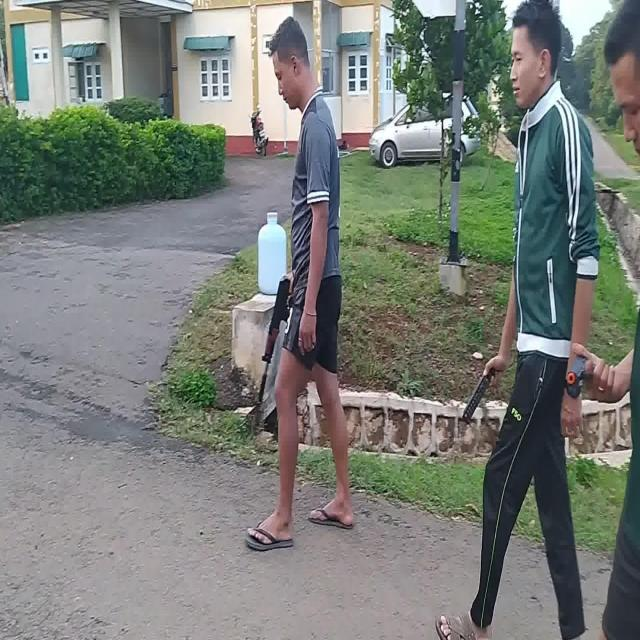gun: (260, 277, 290, 399), (566, 356, 592, 384)
